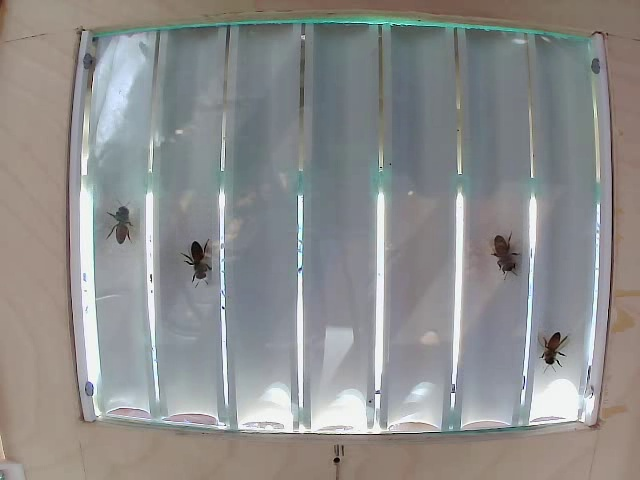bee: (178, 234, 222, 290), (98, 205, 148, 251), (489, 225, 516, 274), (532, 321, 562, 361)
